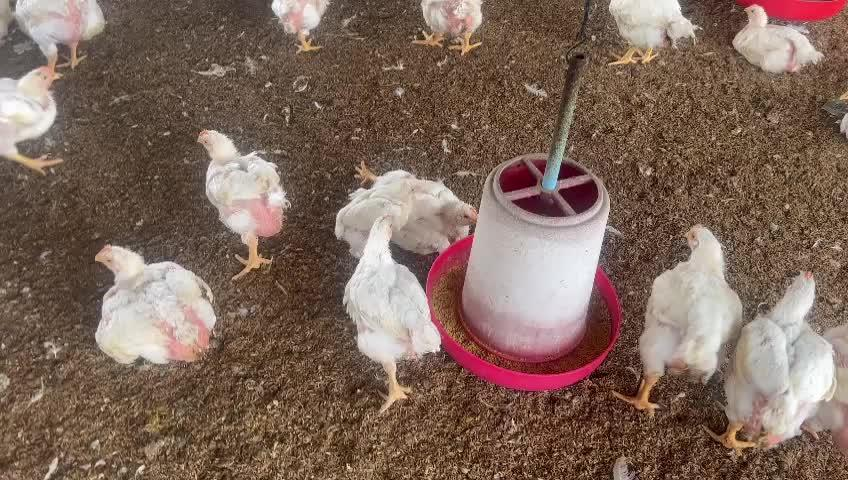AbNormal: (92, 244, 219, 370), (352, 159, 479, 255), (329, 169, 419, 259), (732, 4, 820, 75)
Normal: (704, 268, 834, 449), (617, 225, 743, 407), (339, 213, 441, 411), (195, 129, 282, 276), (0, 67, 67, 175), (15, 0, 107, 70), (603, 1, 692, 72), (413, 0, 488, 55), (269, 0, 337, 58)
